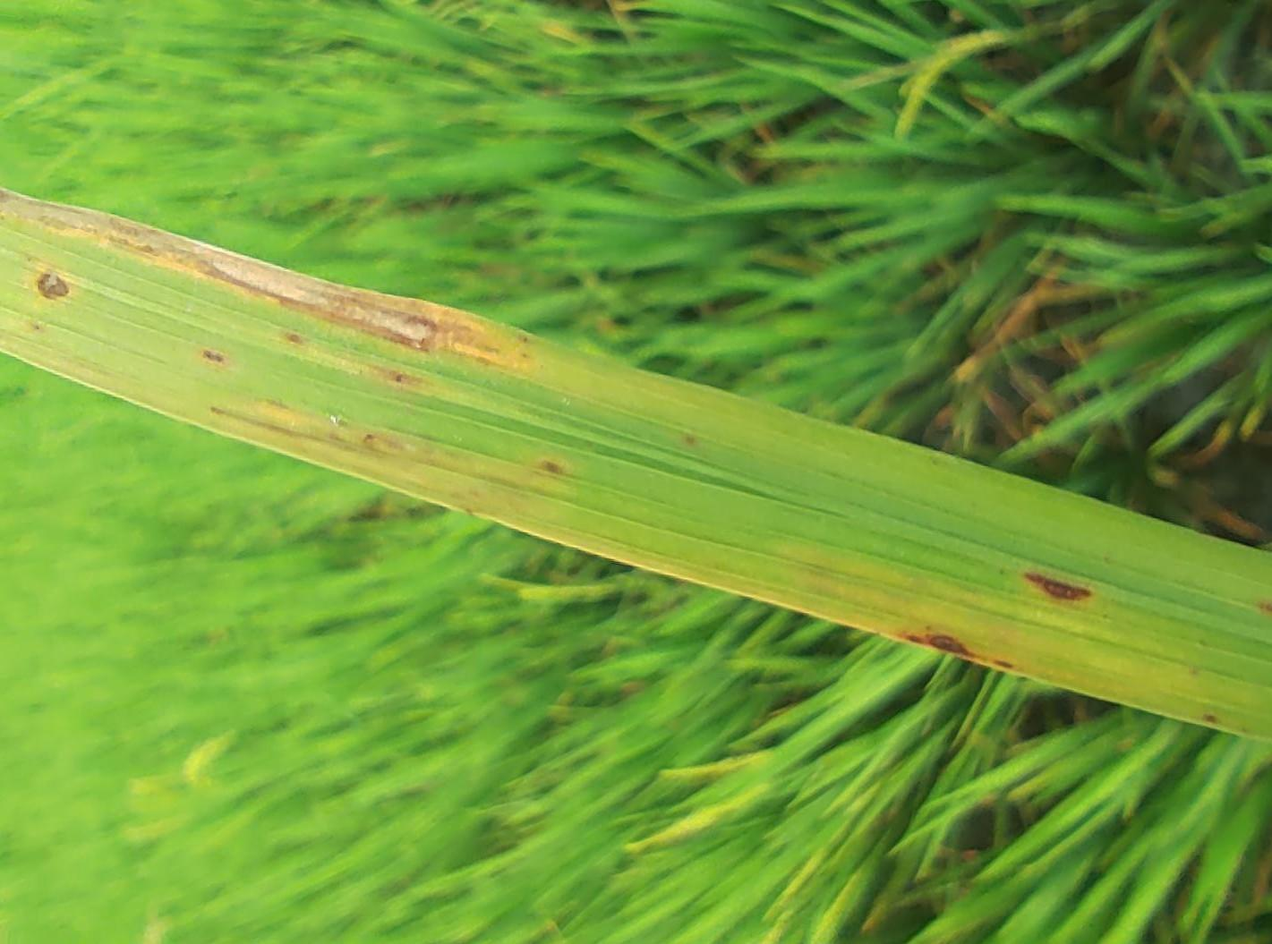LEAF: (0, 189, 1271, 738)
LEAF BLAST: (191, 241, 441, 353), (1026, 574, 1091, 600), (923, 633, 976, 657), (35, 268, 73, 299)
